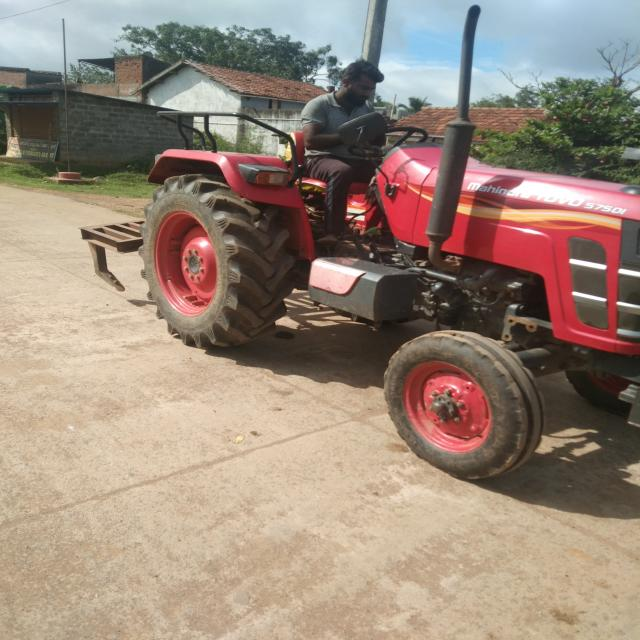tractor: (110, 2, 640, 495)
